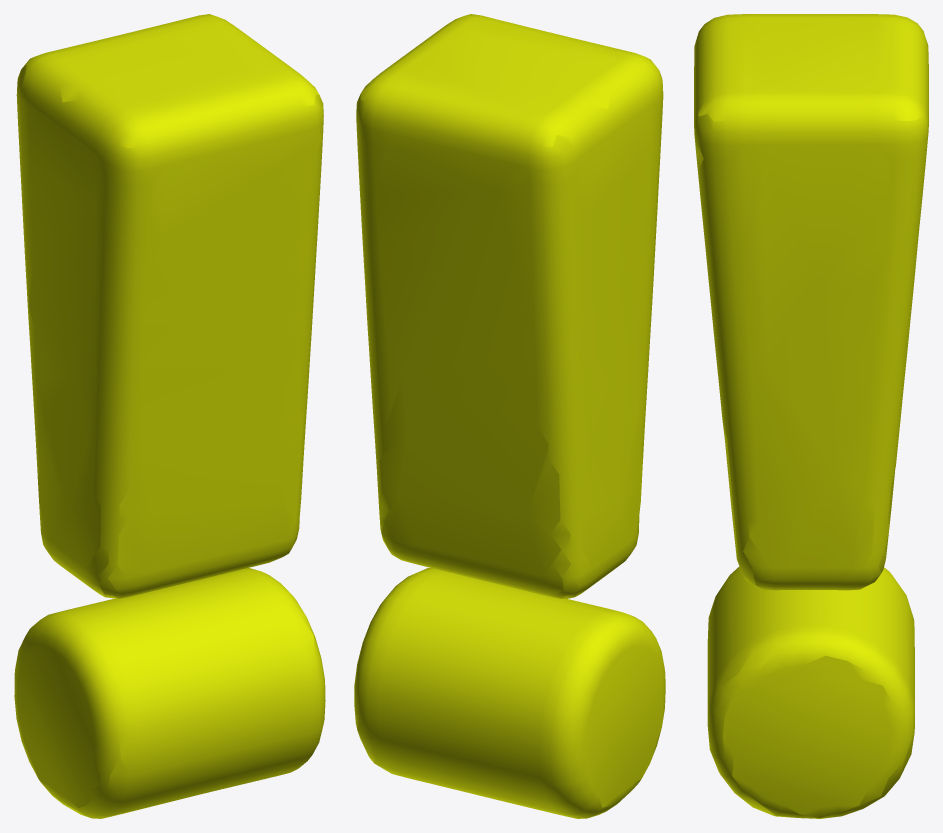
The model's file is Admiracion.fbx.
3 views of the same model, side by side, from view 1: azimuth 30°, elevation 25°; view 2: azimuth 150°, elevation 25°; view 3: azimuth 270°, elevation 25° (orthographic).
Parts seen in each view (by area): view 1: tripo_node_fe260395_7009_4276_9798_c365b4489b98; view 2: tripo_node_fe260395_7009_4276_9798_c365b4489b98; view 3: tripo_node_fe260395_7009_4276_9798_c365b4489b98.
Part boxes in pixels (x1=…): tripo_node_fe260395_7009_4276_9798_c365b4489b98: x1=14, y1=14, x2=325, y2=818; tripo_node_fe260395_7009_4276_9798_c365b4489b98: x1=354, y1=14, x2=665, y2=818; tripo_node_fe260395_7009_4276_9798_c365b4489b98: x1=694, y1=14, x2=928, y2=818.
Bounding box in the file's own units: 0.3316 × 0.9997 × 0.2965.
